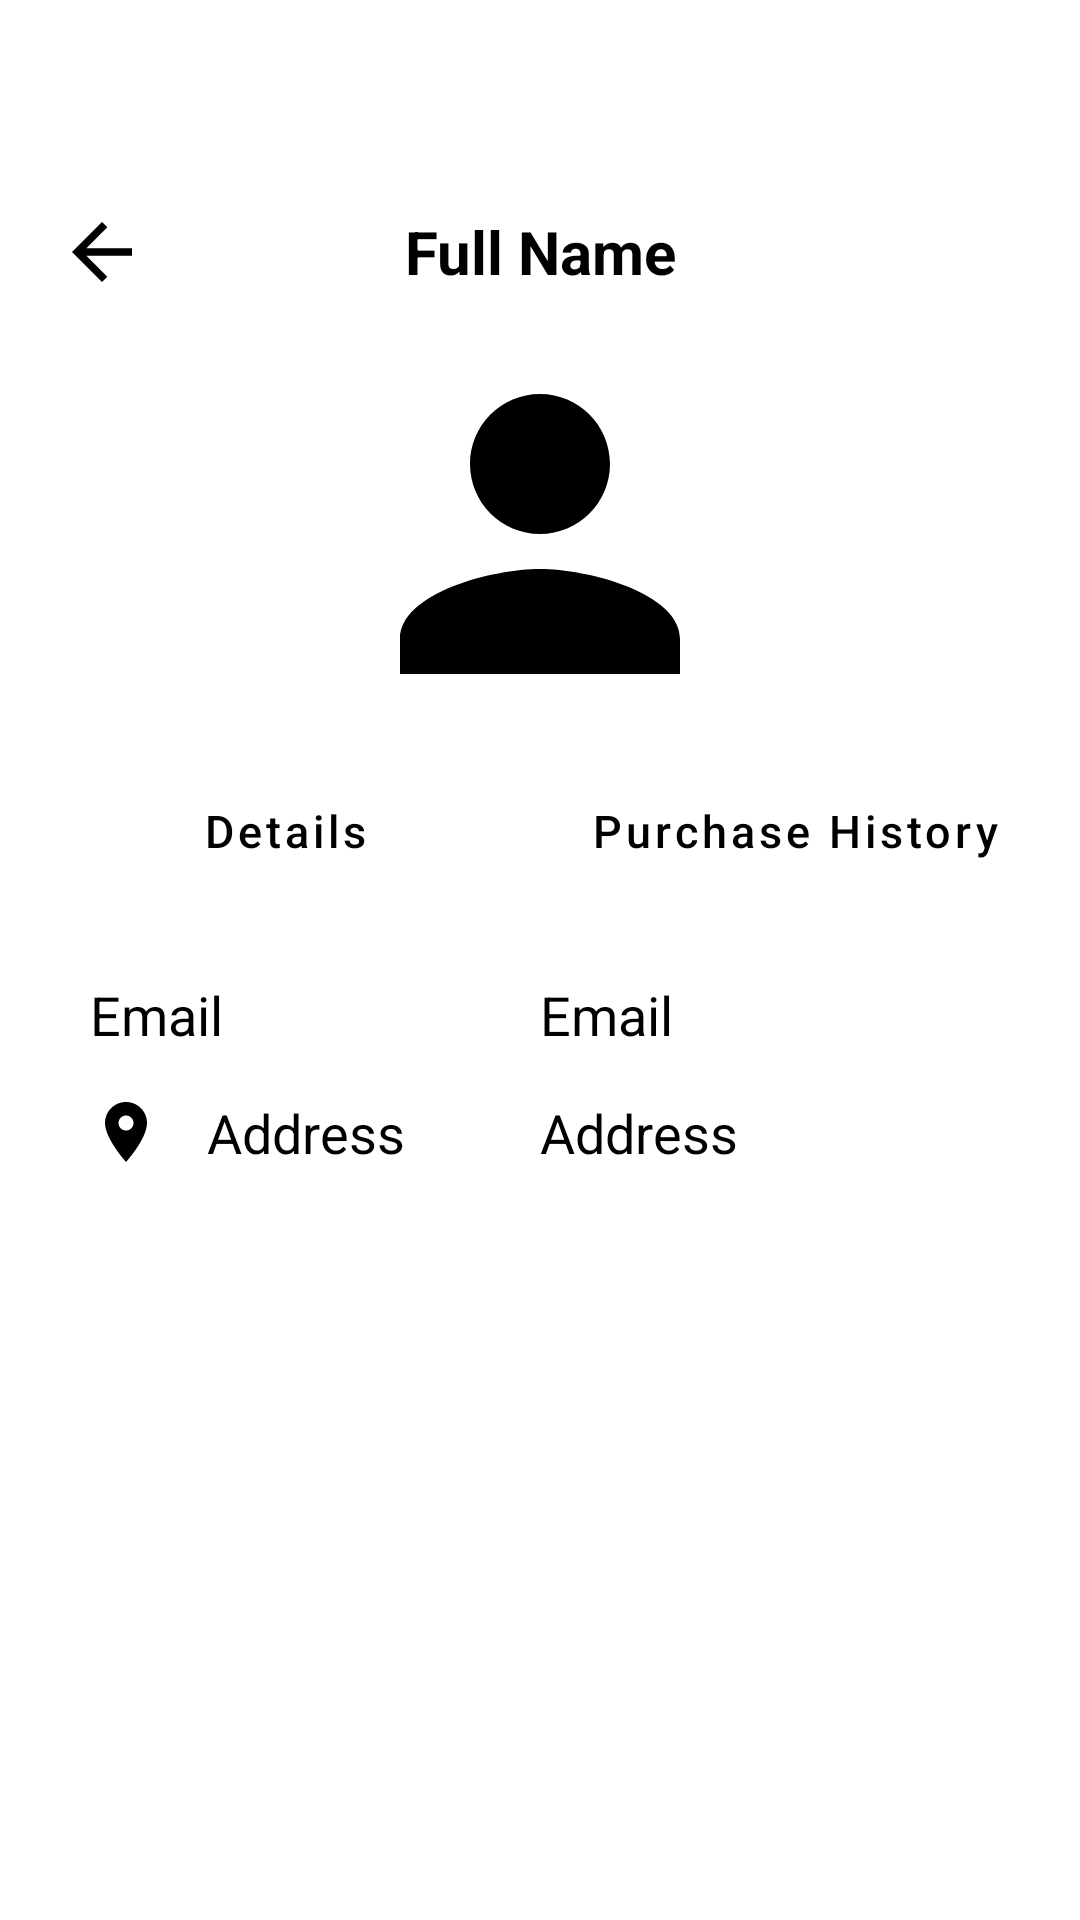

Screen size 1080px x 1920px. Icon name, then its center in pixels as (x,y):
Go Back Button: (102,252)
